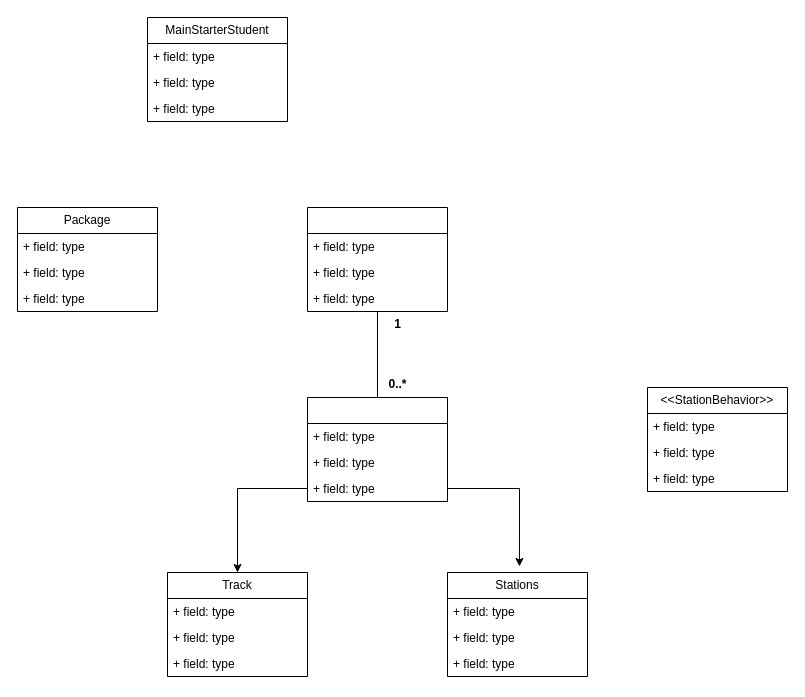
Some shapes in this 805 by 697 pixel diagram are drawn without their labels. The box of each missing label's shape, as (x1, y1, x2, y2) in pixels:
<<Components>>: (306, 396, 448, 502)
ConveyorLine: (306, 206, 448, 312)
